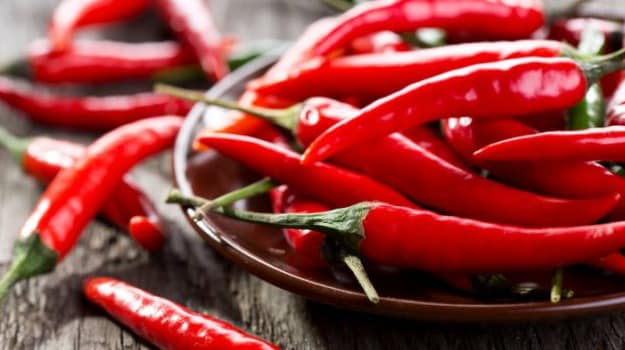Cabai: (287, 45, 572, 241)
